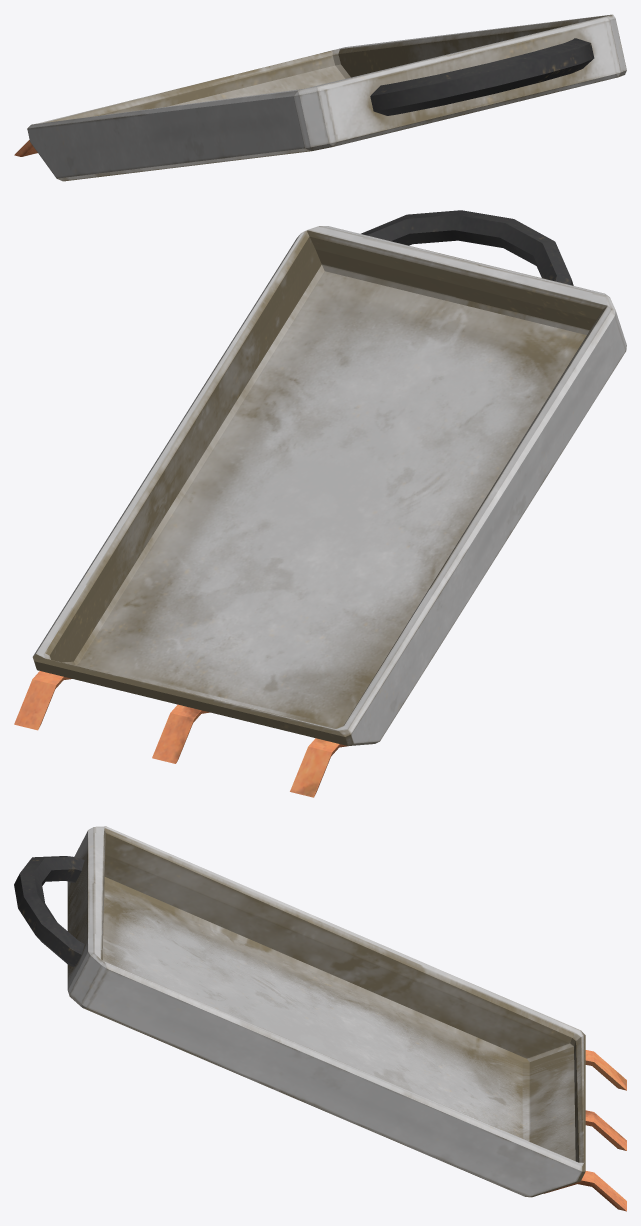
File: EletricalPannelFront.fbx
3 renders of one model, top to bottom at view 1: azimuth 30°, elevation 25°; view 2: azimuth 150°, elevation 25°; view 3: azimuth 270°, elevation 25°, orthographic. The views are drawn at different scales.
Parts seen in each view (by area): view 1: ElectricalPannel.002; view 2: ElectricalPannel.002; view 3: ElectricalPannel.002.
Part boxes in pixels (x1,y1,x2,y2): ElectricalPannel.002: (14, 14, 626, 181); ElectricalPannel.002: (14, 210, 626, 797); ElectricalPannel.002: (14, 826, 626, 1211).
Bounding box in the file's own units: 60 × 53.86 × 111.
